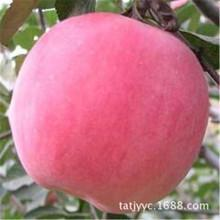apple: (7, 7, 211, 215)
